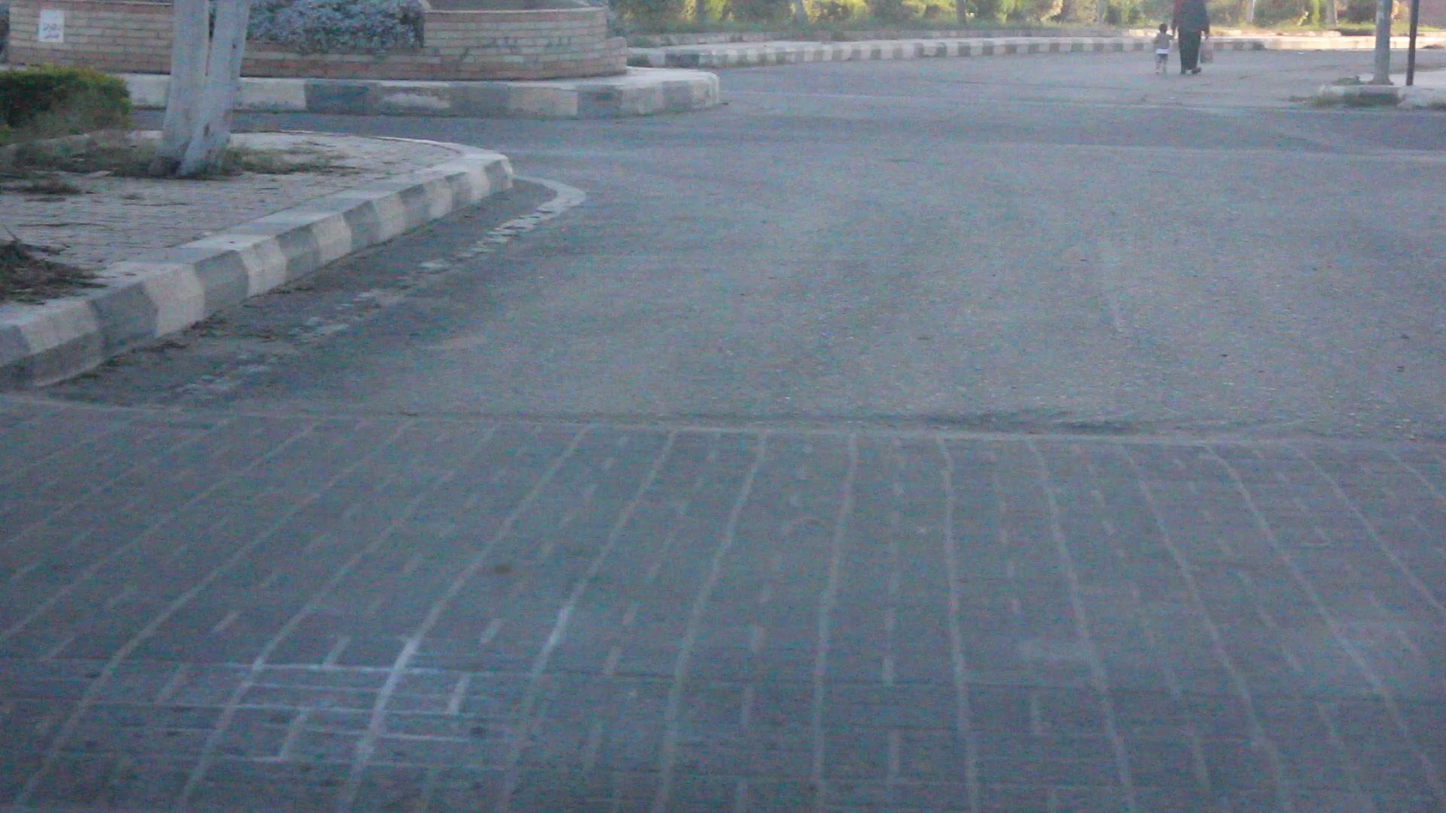Bump: (19, 390, 1446, 813)
